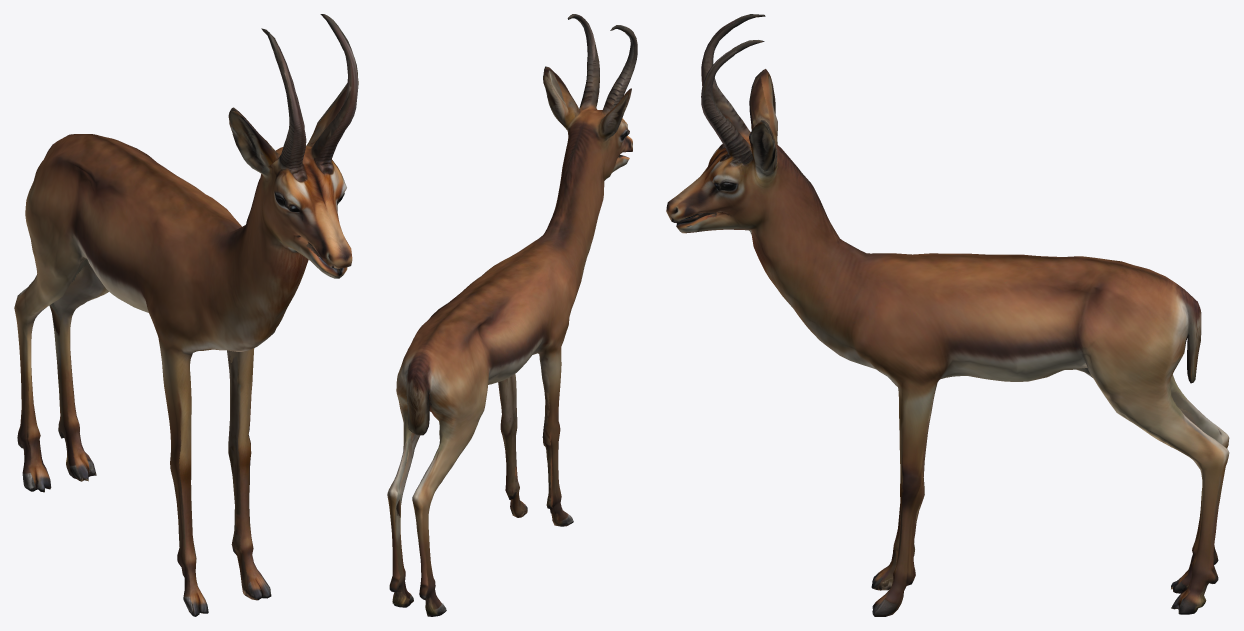
File: antilope_original.glb
The picture shows the model from 3 angles, left to right: view 1: azimuth 30°, elevation 25°; view 2: azimuth 150°, elevation 25°; view 3: azimuth 270°, elevation 25°; orthographic projection. The views are drawn at different scales.
Bounding box in the file's own units: 0.3988 × 2 × 1.78.
1 material, 1 textured.
